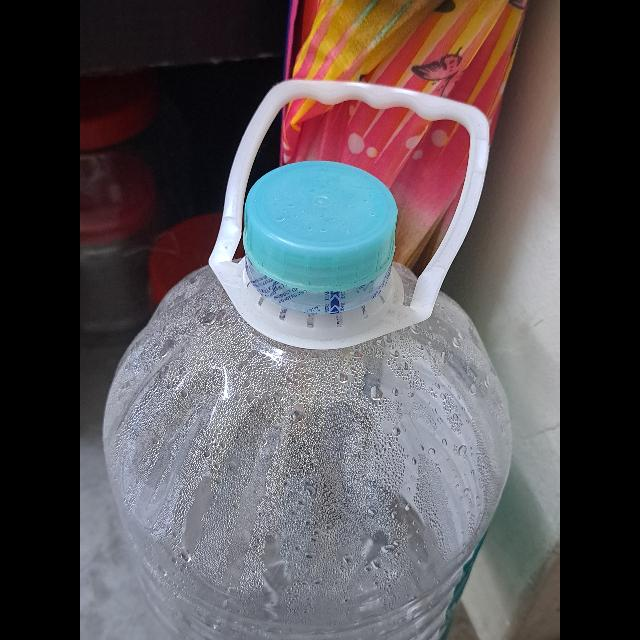garrafa plástica: (104, 254, 516, 640)
tampa plástica: (240, 159, 396, 285)
